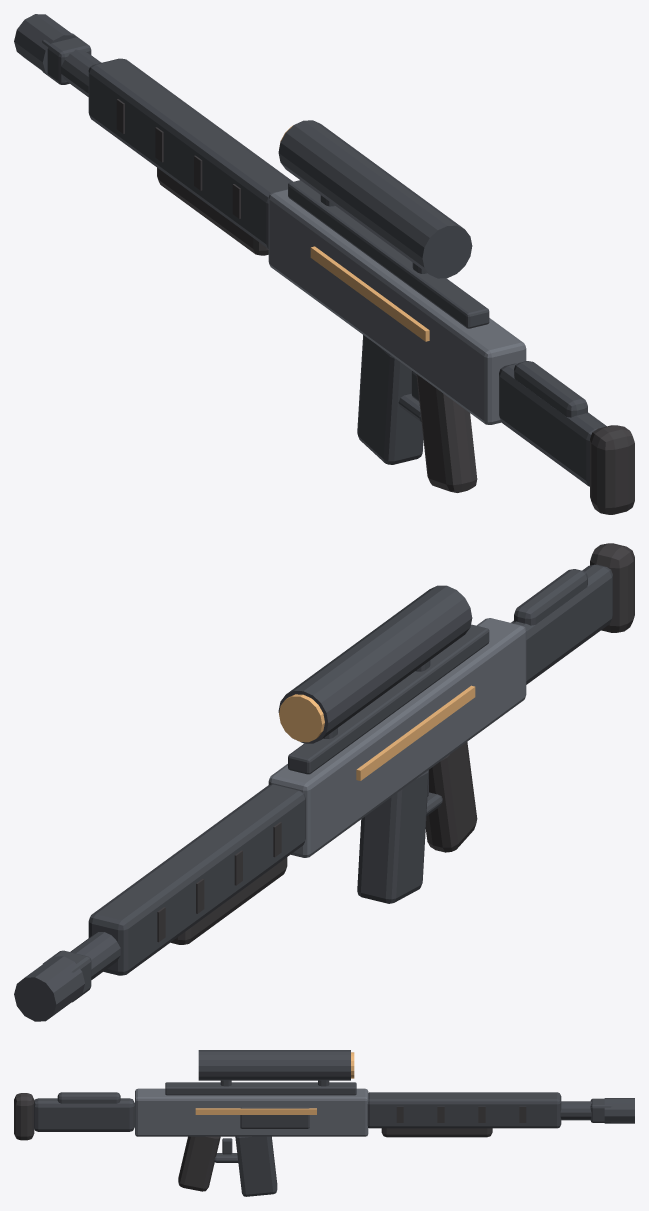
Rendered from WPN_SniperRifle.fbx.
The picture shows the model from 3 angles, top to bottom: view 1: azimuth 30°, elevation 25°; view 2: azimuth 150°, elevation 25°; view 3: azimuth 270°, elevation 25°; orthographic projection. The views are drawn at different scales.
Visible parts, largest first — view 1: WPN_SniperRifle; view 2: WPN_SniperRifle; view 3: WPN_SniperRifle.
Part boxes in pixels (x1,y1,x2,y2): WPN_SniperRifle: [14, 14, 634, 514]; WPN_SniperRifle: [14, 543, 634, 1021]; WPN_SniperRifle: [14, 1050, 634, 1196].
Size of the model in its own units: 0.06 by 0.3084 by 1.22.
